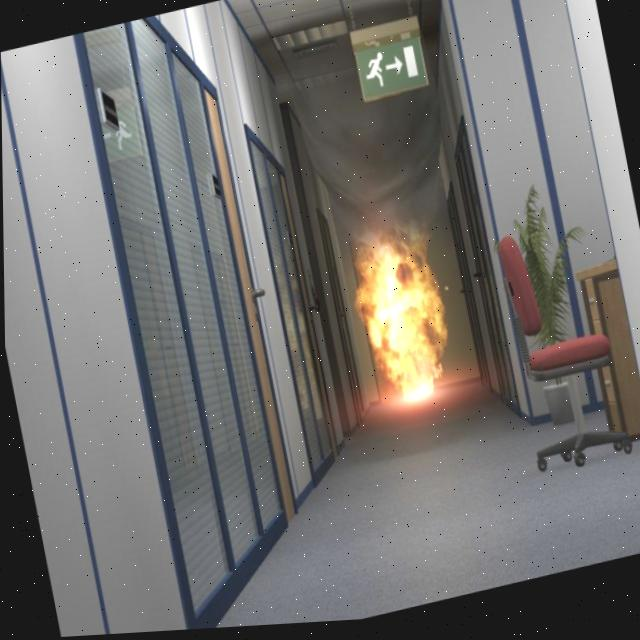fire: (354, 235, 447, 404)
smoke: (295, 73, 454, 284), (441, 296, 472, 384)
